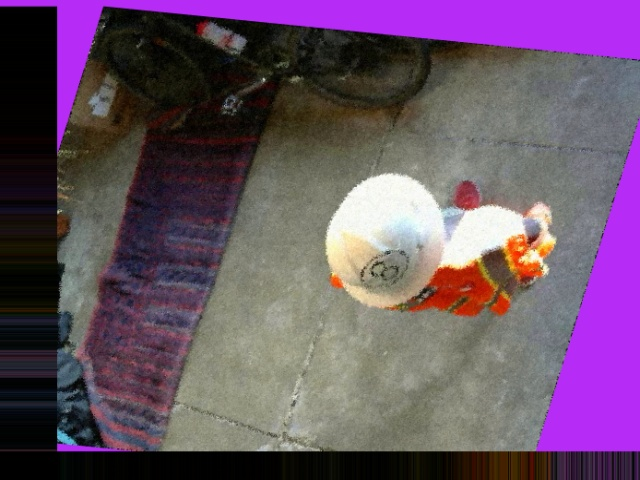eight: (358, 247, 412, 291)
